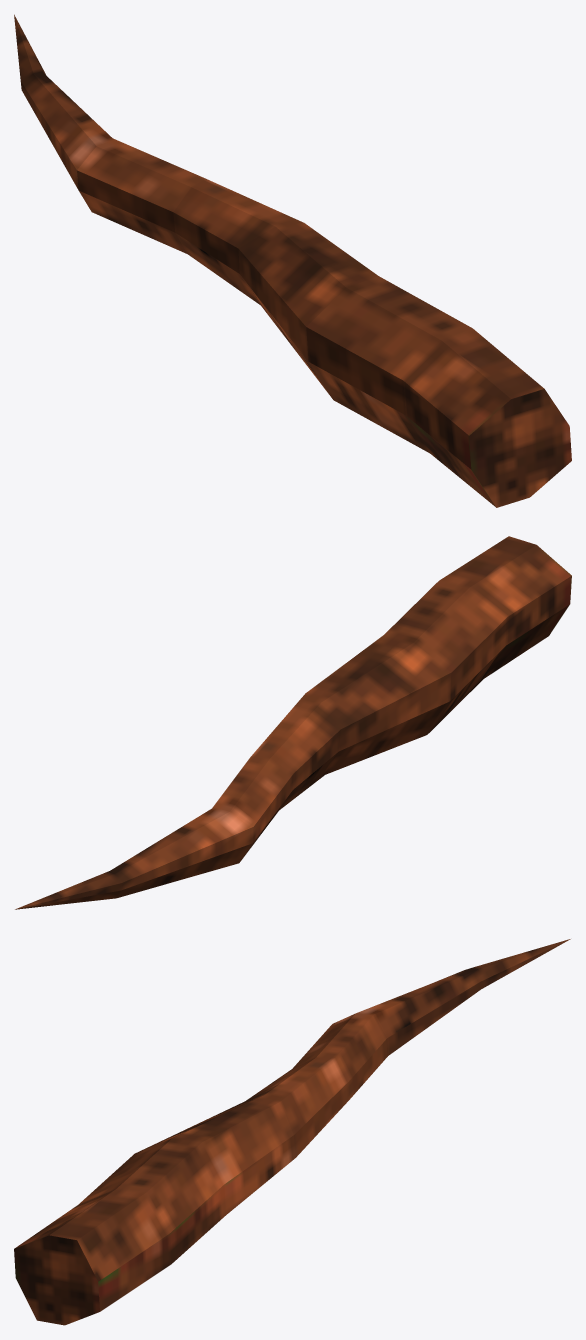
Rendered from sprigganroot.obj.
The picture shows the model from 3 angles, top to bottom: view 1: azimuth 30°, elevation 25°; view 2: azimuth 150°, elevation 25°; view 3: azimuth 330°, elevation 25°; orthographic projection. The views are drawn at different scales.
Visible parts, largest first — view 1: Base; view 2: Base; view 3: Base.
Boxes of the visible parts, box(x1,y1,x2,y2) form: Base: box(14, 14, 571, 507); Base: box(15, 536, 571, 909); Base: box(14, 939, 570, 1325).
Bounding box in the file's own units: 0.1633 × 0.1483 × 1.34.
